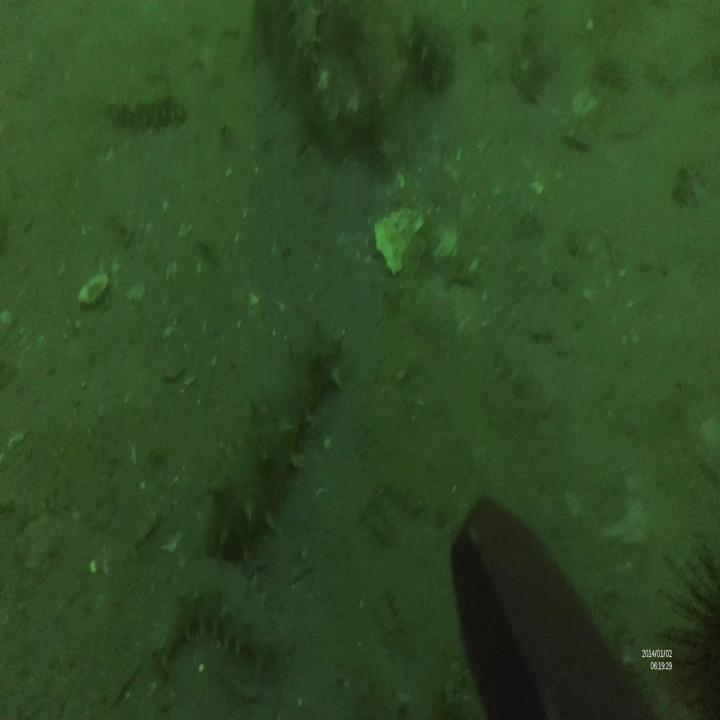echinus: (664, 541, 720, 720)
holothurian: (207, 296, 343, 558), (157, 566, 278, 691), (393, 8, 455, 88), (98, 82, 182, 128)
